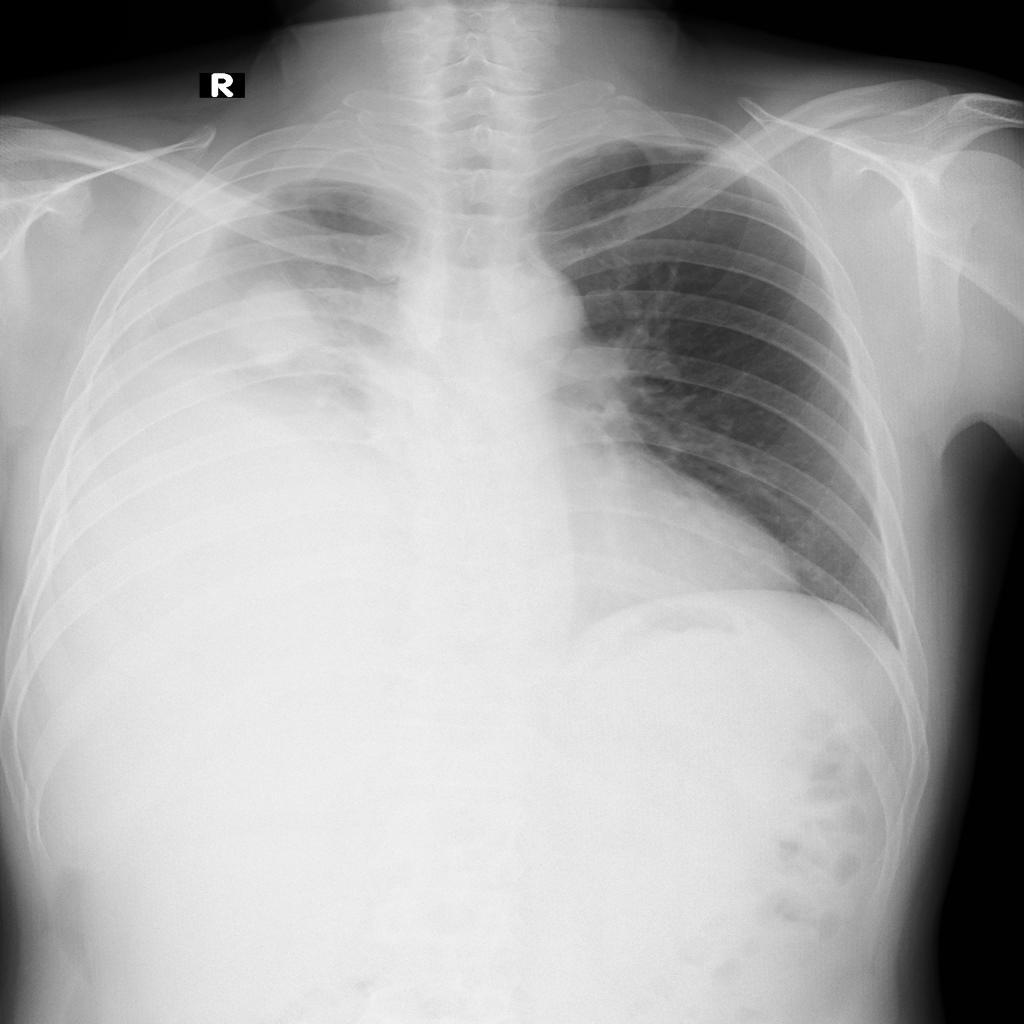Nodule: (226, 252, 383, 375)
